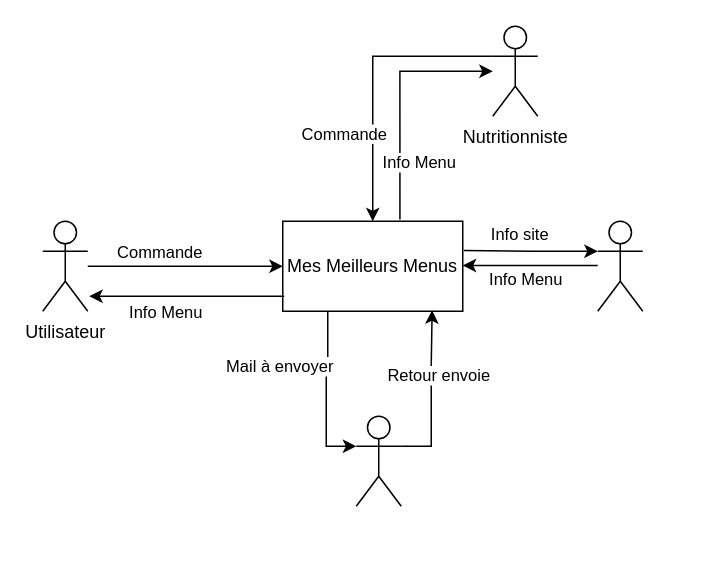
Some shapes in this 704 by 564 pixel diagram are drawn without their labels. Each missing label, with the centre of its shape:
"Administrateur" belongs at (x=619, y=265).
"Twilio" belongs at (x=378, y=460).
